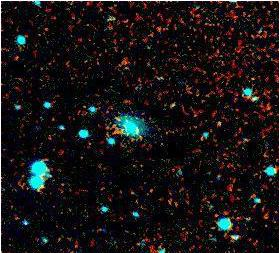star: (202, 106, 232, 136)
